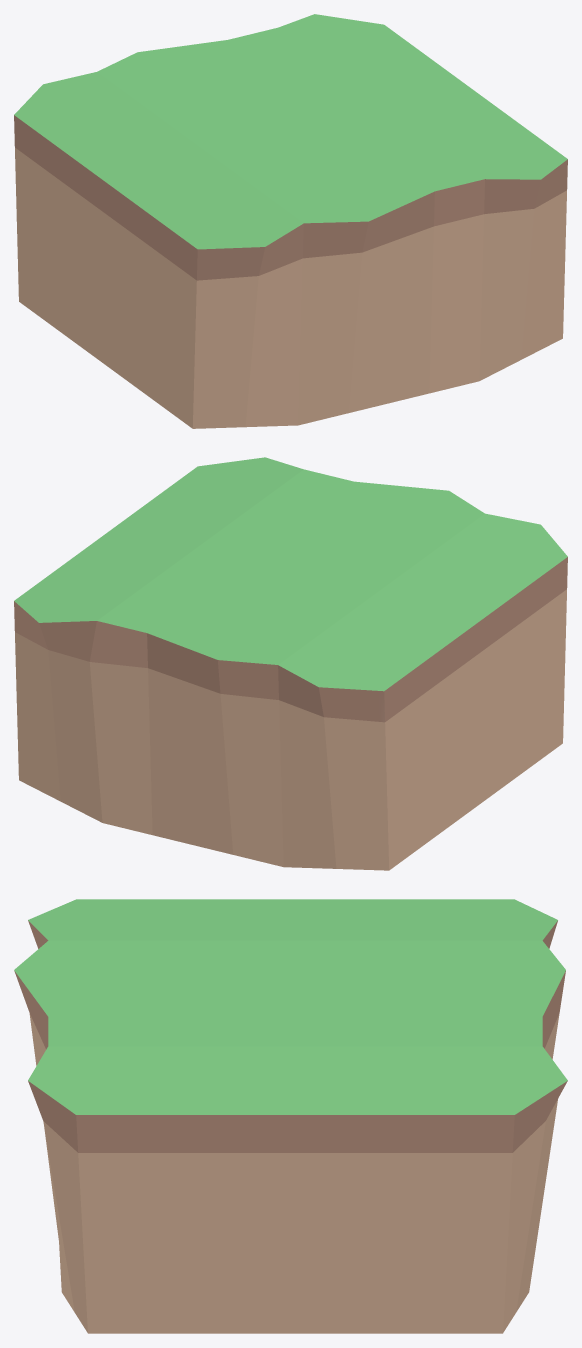
The model's file is Platform 2.glb.
3 views of the same model, one above another, from view 1: azimuth 30°, elevation 25°; view 2: azimuth 150°, elevation 25°; view 3: azimuth 270°, elevation 25° (orthographic). The views are drawn at different scales.
Parts seen in each view (by area): view 1: Cube; view 2: Cube; view 3: Cube.
Boxes of the visible parts, x1,y1,x2,y2 form: Cube: (14, 14, 567, 428); Cube: (14, 457, 567, 870); Cube: (14, 899, 567, 1333).
Bounding box in the file's own units: 1.64 × 0.8717 × 1.78.
Materials: 1 (1 with a texture image).
